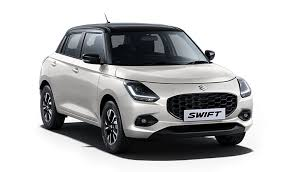Swift: (39, 13, 253, 151)
